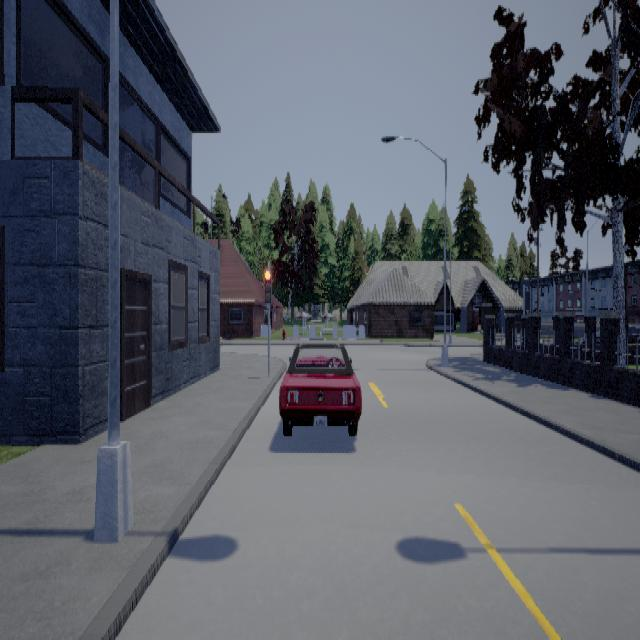red_light: (266, 261, 273, 308)
vehicle: (280, 342, 363, 434)
